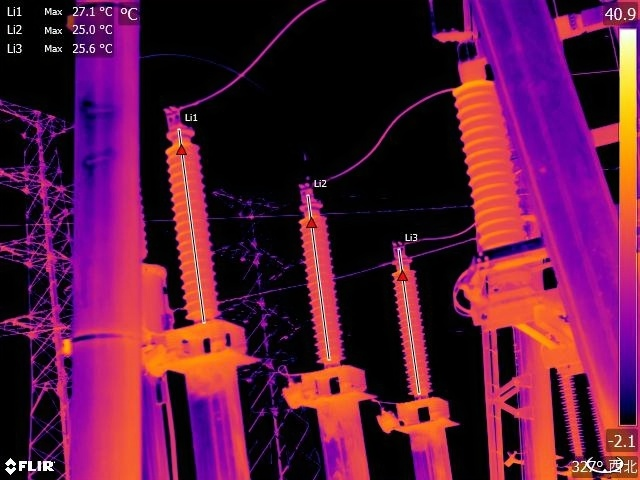lightning arrester: (158, 105, 251, 371), (290, 181, 366, 396), (387, 231, 452, 417)
post insulator: (454, 74, 534, 251)
switch: (455, 1, 640, 80)
